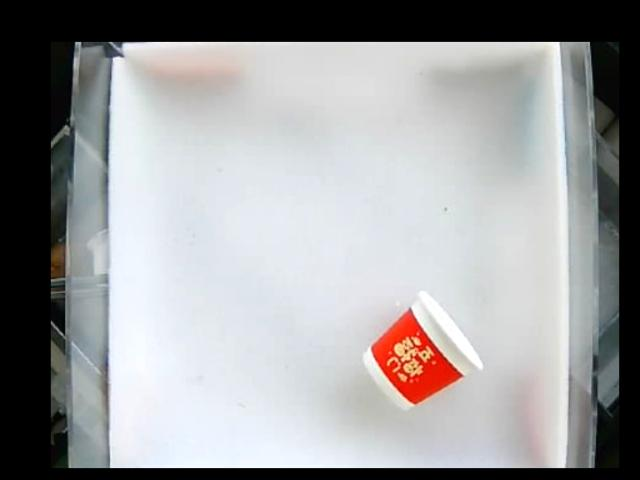Cup: (360, 289, 479, 411)
